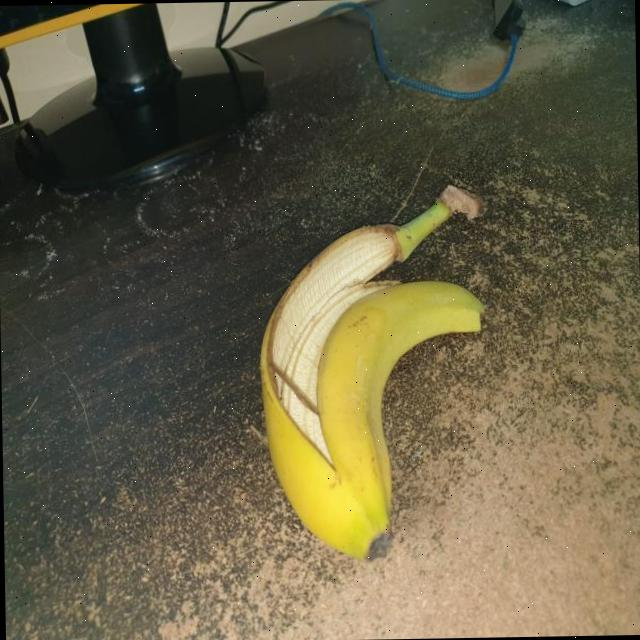banana-peel: (252, 181, 490, 562)
